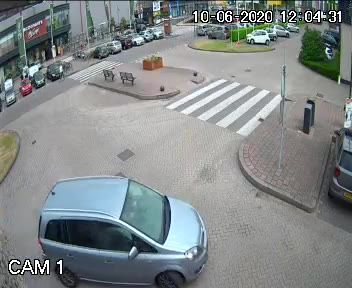car: (32, 175, 216, 285)
